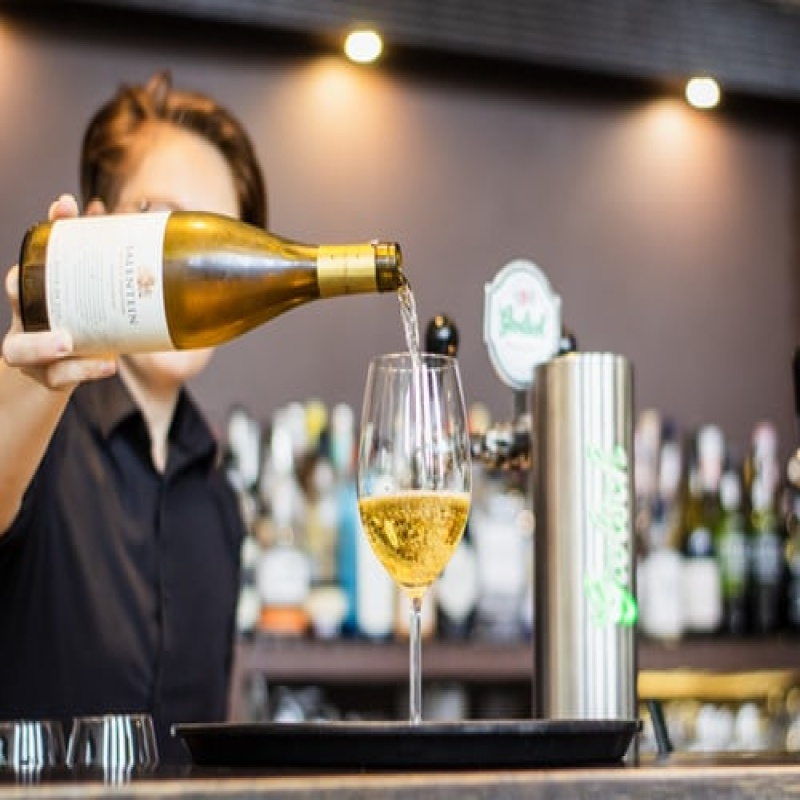wine: (26, 214, 400, 358)
